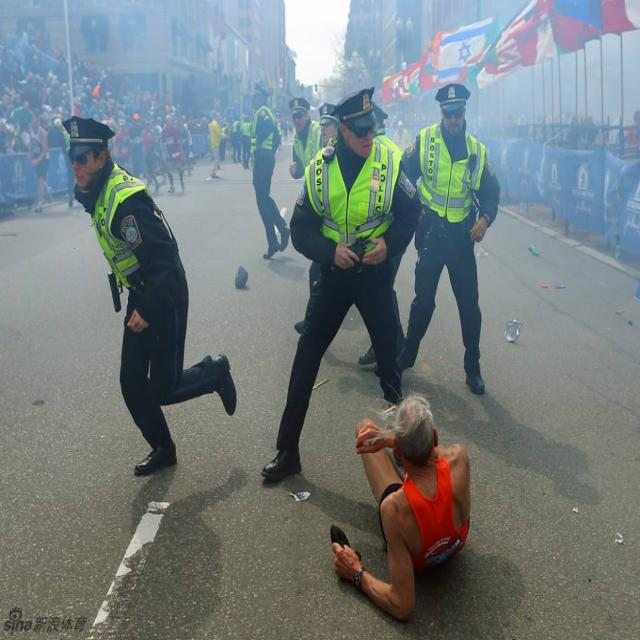10-: (0, 25, 639, 487)
down: (329, 392, 472, 619)
